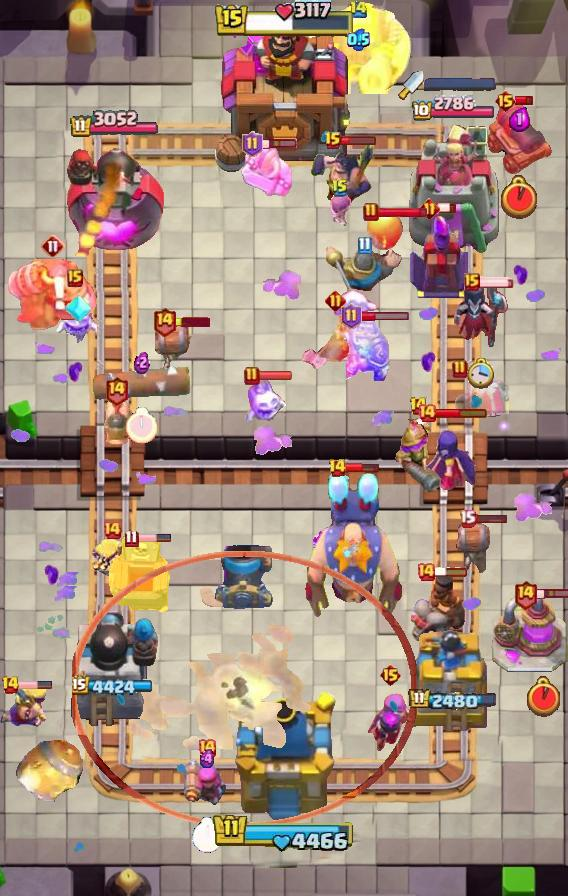bar: (377, 206, 428, 219), (435, 407, 488, 419), (359, 311, 410, 322), (477, 276, 515, 288), (261, 138, 298, 150), (433, 566, 469, 578), (340, 135, 377, 146), (344, 462, 380, 473), (257, 370, 293, 381), (473, 513, 508, 524), (536, 588, 568, 600), (17, 680, 53, 690), (136, 533, 172, 543), (174, 317, 210, 327), (437, 202, 457, 214), (515, 95, 534, 106)
bar-level: (513, 579, 538, 610), (104, 375, 129, 406), (152, 306, 177, 337), (41, 234, 65, 258), (379, 663, 402, 687), (494, 89, 517, 113), (341, 303, 362, 329), (242, 131, 263, 157), (325, 290, 346, 311), (419, 198, 440, 219), (197, 738, 217, 758), (416, 562, 436, 582), (102, 520, 122, 540), (417, 403, 437, 423), (1, 675, 20, 695), (328, 458, 347, 478), (409, 396, 428, 416), (349, 0, 368, 19), (331, 178, 349, 198), (324, 131, 342, 151), (459, 509, 476, 528), (244, 366, 260, 386), (452, 359, 468, 379), (363, 202, 379, 222), (464, 273, 480, 291), (67, 269, 83, 287), (124, 529, 139, 548), (357, 236, 372, 255)
barbarian-evolution: (89, 532, 135, 581), (0, 683, 48, 729)
cannoneer-tower: (64, 138, 165, 256), (69, 599, 159, 731)
clock: (501, 175, 537, 219), (527, 676, 560, 717), (126, 407, 158, 444), (192, 817, 223, 853), (467, 358, 495, 390)
dagger-duchess-tower: (406, 122, 500, 256)
dagger-duchess-tower-bar: (424, 77, 496, 91)
elite-barbarian: (239, 144, 295, 200)
elixir: (347, 28, 370, 51), (509, 107, 530, 132), (134, 350, 150, 374), (198, 749, 217, 769)
executioner: (309, 139, 377, 215)
firecracker: (182, 756, 232, 810)
ice-spirit-evolution: (53, 290, 97, 344), (244, 375, 286, 425), (329, 290, 379, 328)
ice-spirit-evolution-symbol: (64, 293, 92, 325)
king-tower: (211, 7, 357, 181), (227, 692, 341, 826)
king-tower-bar: (212, 812, 356, 854), (213, 0, 355, 40)
knight: (321, 245, 407, 297)
knight-evolution: (344, 313, 391, 381)
mortar: (213, 545, 273, 609)
mother-witch: (364, 691, 416, 753)
musketeer: (390, 418, 446, 496)
night-witch: (452, 280, 510, 350)
phoenix-egg: (364, 208, 404, 252)
queen-tower: (403, 621, 503, 731)
ram-rider: (409, 569, 467, 645)
royal-ghost: (439, 365, 509, 423)
royal-hog: (100, 395, 132, 449)
skeleton-evolution: (327, 189, 354, 227)
the-log: (92, 364, 192, 402)
tower-bar: (69, 110, 160, 139), (411, 95, 496, 123), (408, 688, 498, 712), (72, 676, 157, 698)
valkyrie: (299, 307, 371, 375)
wall-breaker: (454, 520, 504, 576), (155, 322, 205, 376)
witch: (403, 413, 479, 493)
